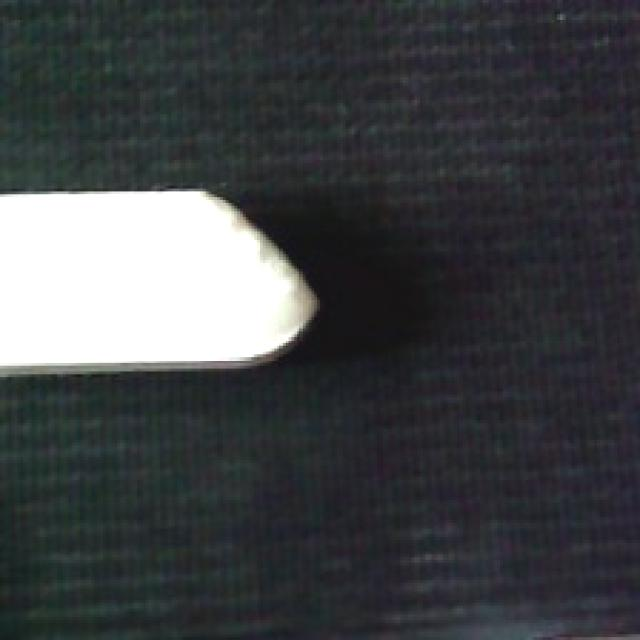defected: (0, 180, 326, 377)
